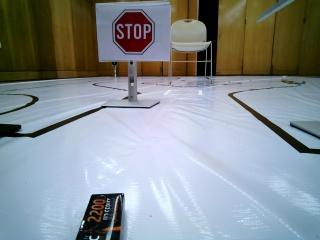stop: (95, 4, 169, 56)
